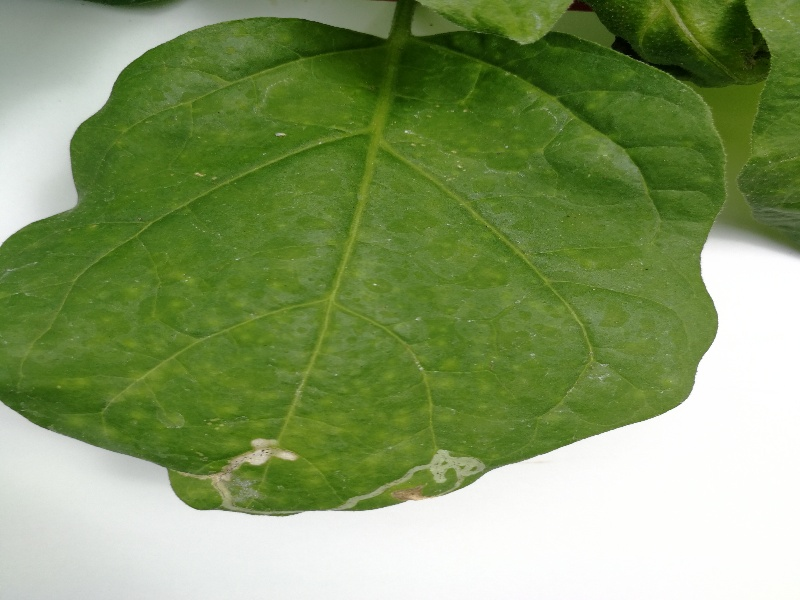leafminer: (161, 434, 490, 517)
